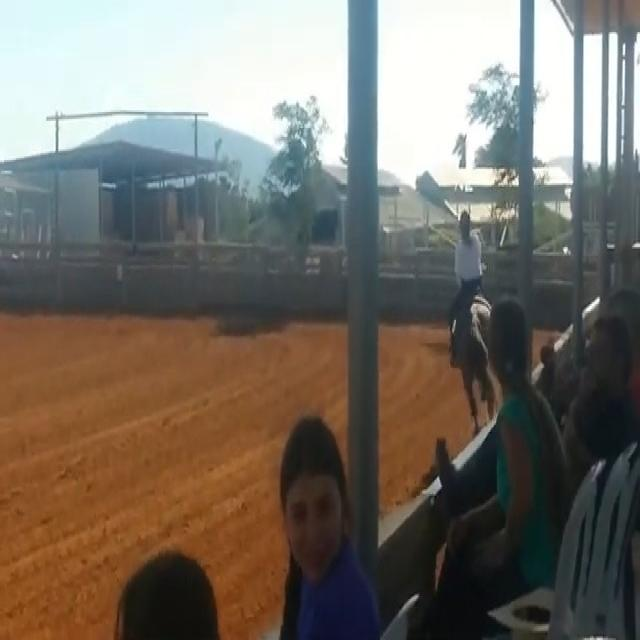horse: (448, 290, 499, 434)
